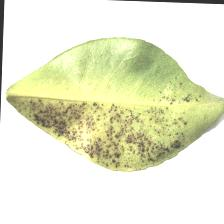canker: (33, 103, 181, 161)
